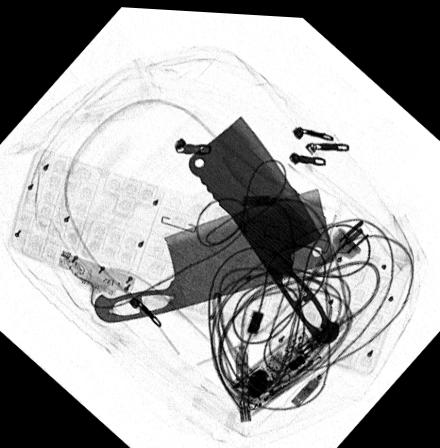Knife: (188, 112, 339, 341), (93, 183, 334, 322)
